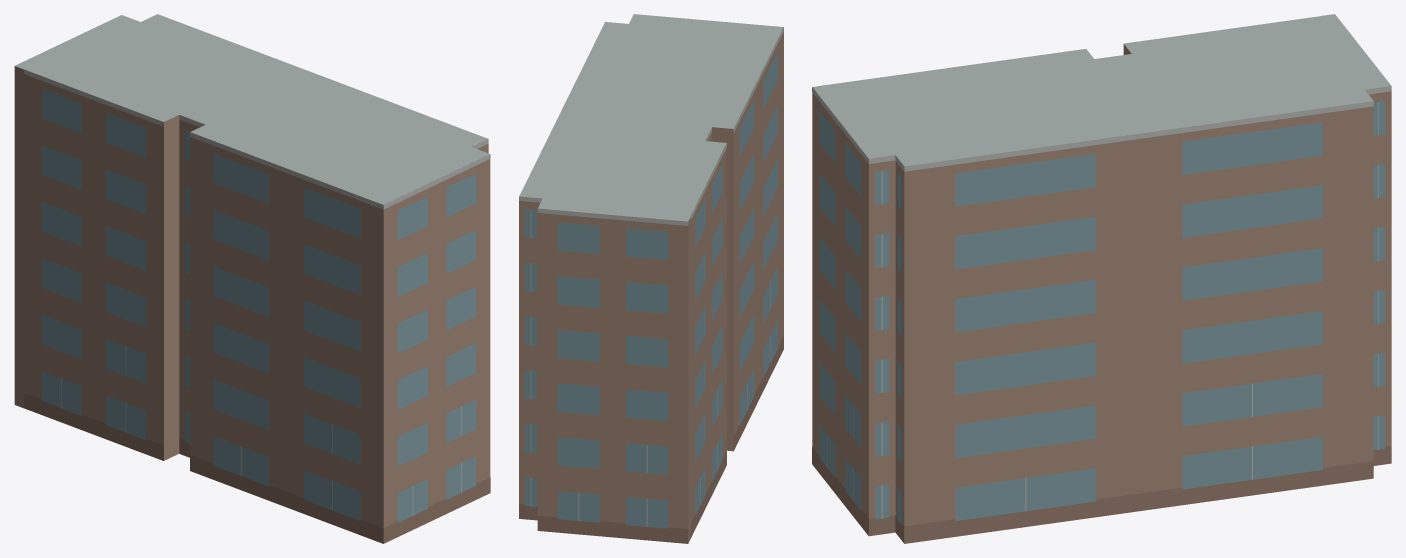
The model's file is survey-upis-32619240.glb.
3 renders of one model, left to right at view 1: azimuth 30°, elevation 25°; view 2: azimuth 150°, elevation 25°; view 3: azimuth 270°, elevation 25°, orthographic. The views are drawn at different scales.
Parts seen in each view (by area): view 1: survey-upis-32619240.tmp; view 2: survey-upis-32619240.tmp; view 3: survey-upis-32619240.tmp.
Boxes of the visible parts, x1,y1,x2,y2 form: survey-upis-32619240.tmp: [14, 14, 490, 543]; survey-upis-32619240.tmp: [519, 14, 783, 543]; survey-upis-32619240.tmp: [812, 14, 1391, 543].
Size of the model in its own units: 15.35 by 17.7 by 24.64.
